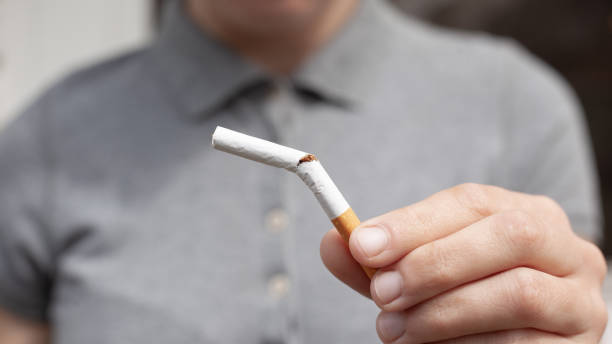cigarette: (209, 126, 378, 281)
